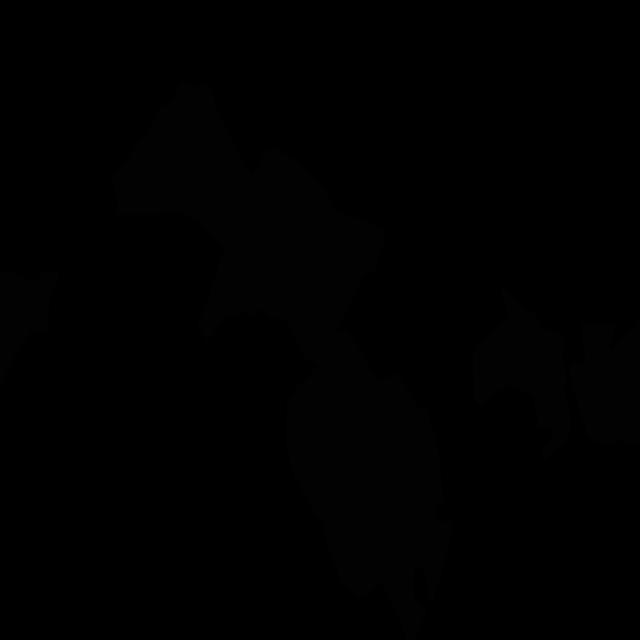cardboard: (286, 332, 453, 640), (198, 147, 386, 365), (111, 82, 254, 246), (472, 281, 572, 461), (568, 318, 640, 444), (0, 269, 60, 385)
